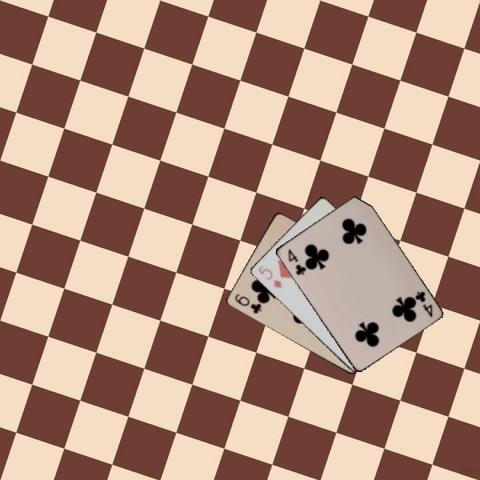4c: (411, 288, 434, 319), (284, 246, 306, 277)
5d: (255, 262, 283, 289)
6c: (231, 291, 263, 315)
